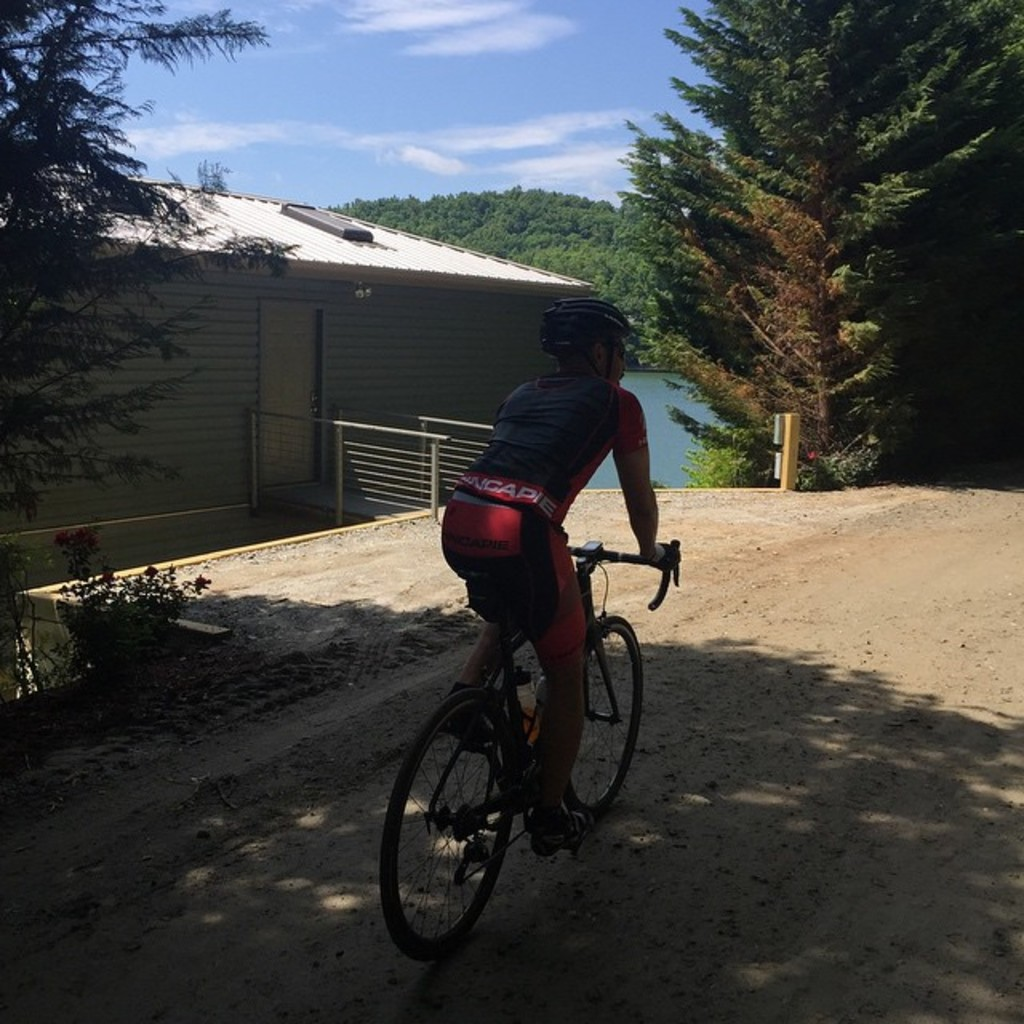Bike_away: (384, 486, 668, 963)
